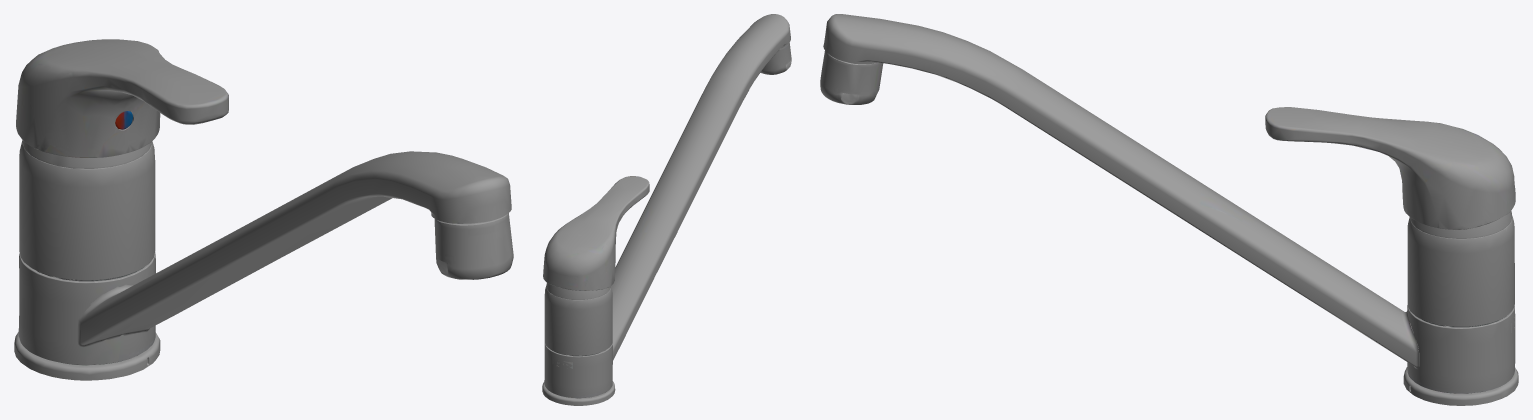
The model's file is LAGAN Mitigeur chromé.glb.
The picture shows the model from 3 angles, left to right: view 1: azimuth 30°, elevation 25°; view 2: azimuth 150°, elevation 25°; view 3: azimuth 270°, elevation 25°; orthographic projection. The views are drawn at different scales.
Visible parts, largest first — view 1: 10085027-LAGAN001; view 2: 10085027-LAGAN001; view 3: 10085027-LAGAN001.
Boxes of the visible parts, x1,y1,x2,y2 form: 10085027-LAGAN001: [14, 39, 513, 380]; 10085027-LAGAN001: [542, 14, 791, 405]; 10085027-LAGAN001: [820, 14, 1518, 405].
Bounding box in the file's own units: 0.0461 × 0.1605 × 0.2793.
Materials: 1 (1 with a texture image).
